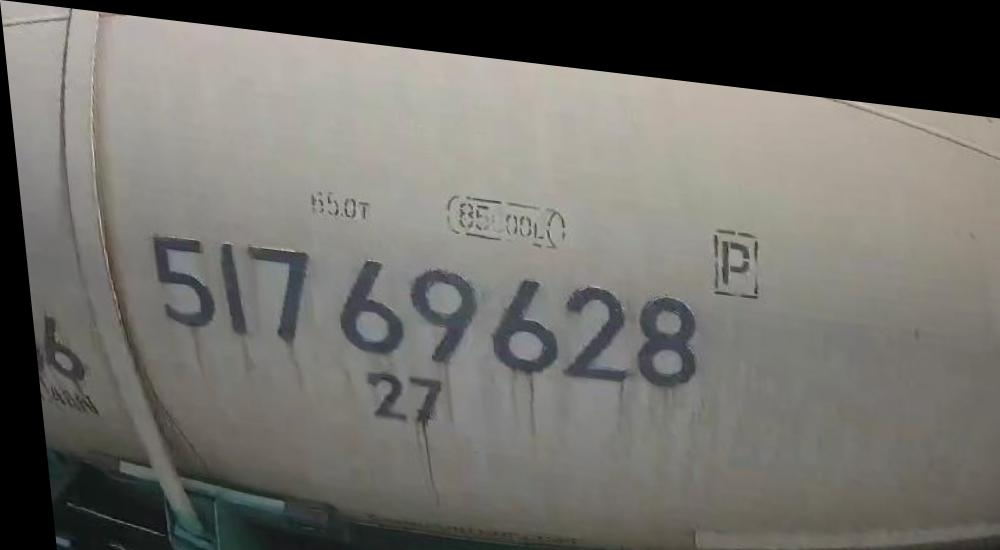Wagon-number: (136, 221, 704, 383)
